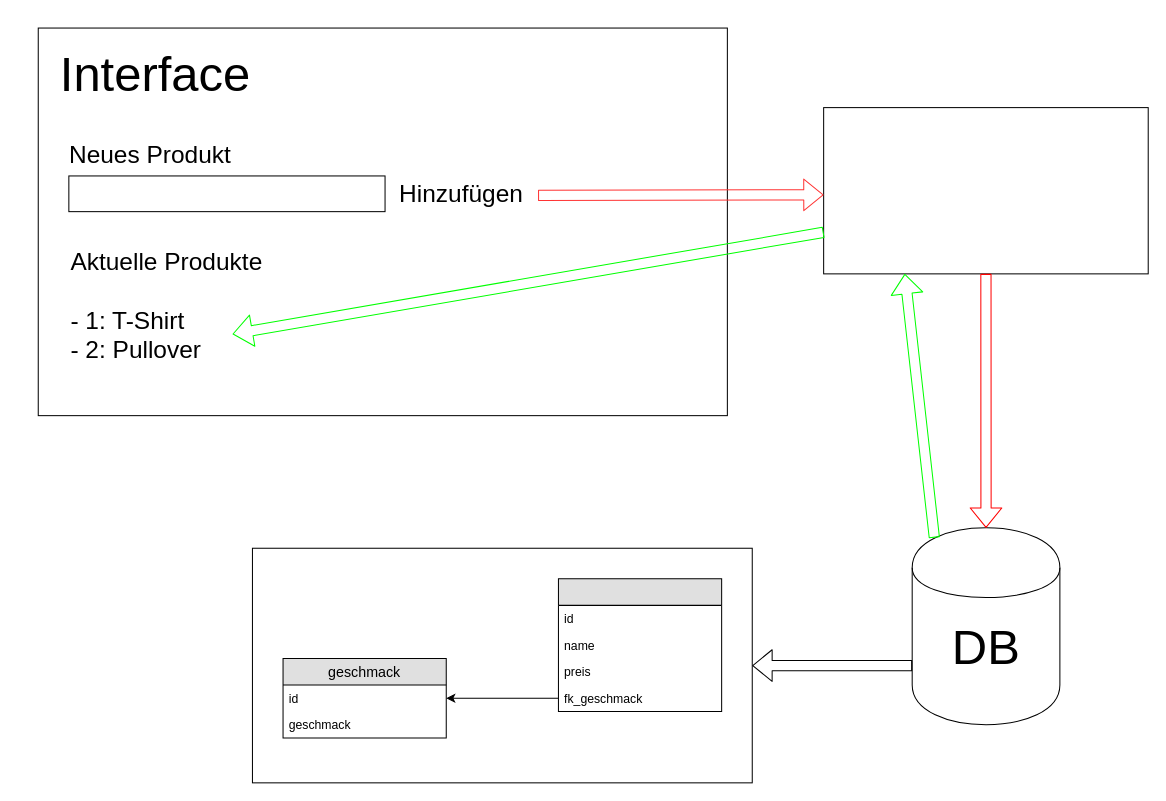
This 1166x801 diagram has some shape labels left out. The shapes that lost their labels are listed below. From the top down, each one's box as (x1, y1, x2, y2) in pixels, then its label:
(823, 107, 1148, 274): PHP
(557, 578, 722, 711): produkte
